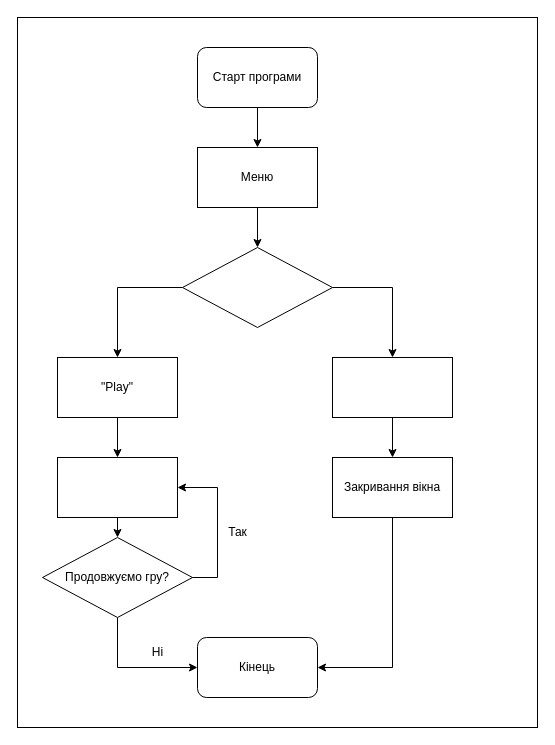
Some shapes in this 555 by 745 pixel diagram are drawn without their labels. Here are the shapes that lost their labels. From the top down, the centre of each, then its label:
the point at 257,287: Вибір кнопки
the point at 392,387: "Exit"
the point at 117,487: Запуск гри
